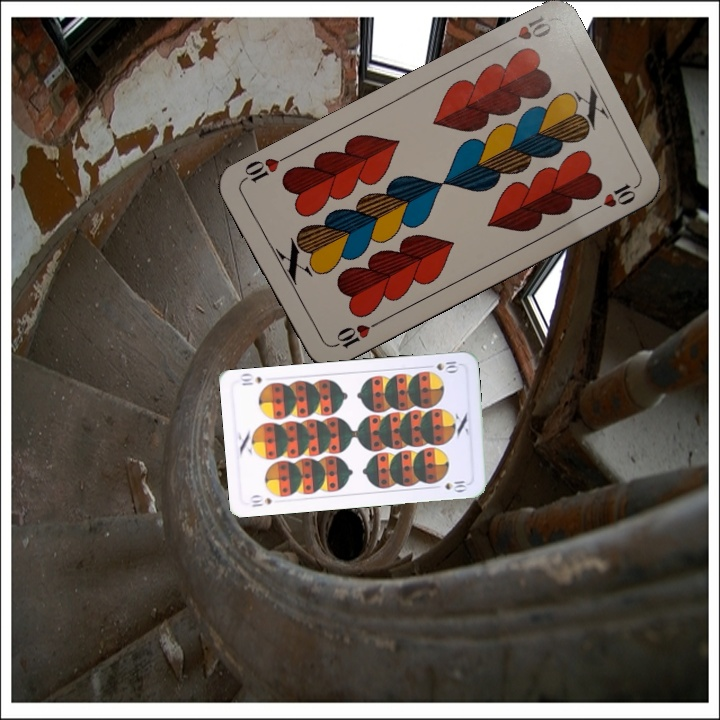H10: (497, 12, 554, 49), (326, 317, 382, 351)
S10: (422, 357, 462, 375), (246, 491, 275, 509)
